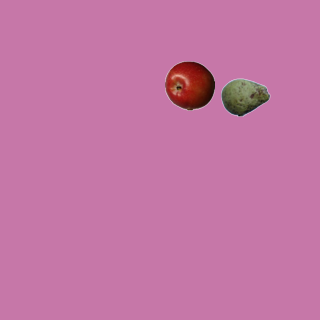Apple Braeburn: (164, 60, 214, 110)
Pear Stone: (220, 72, 270, 122)
